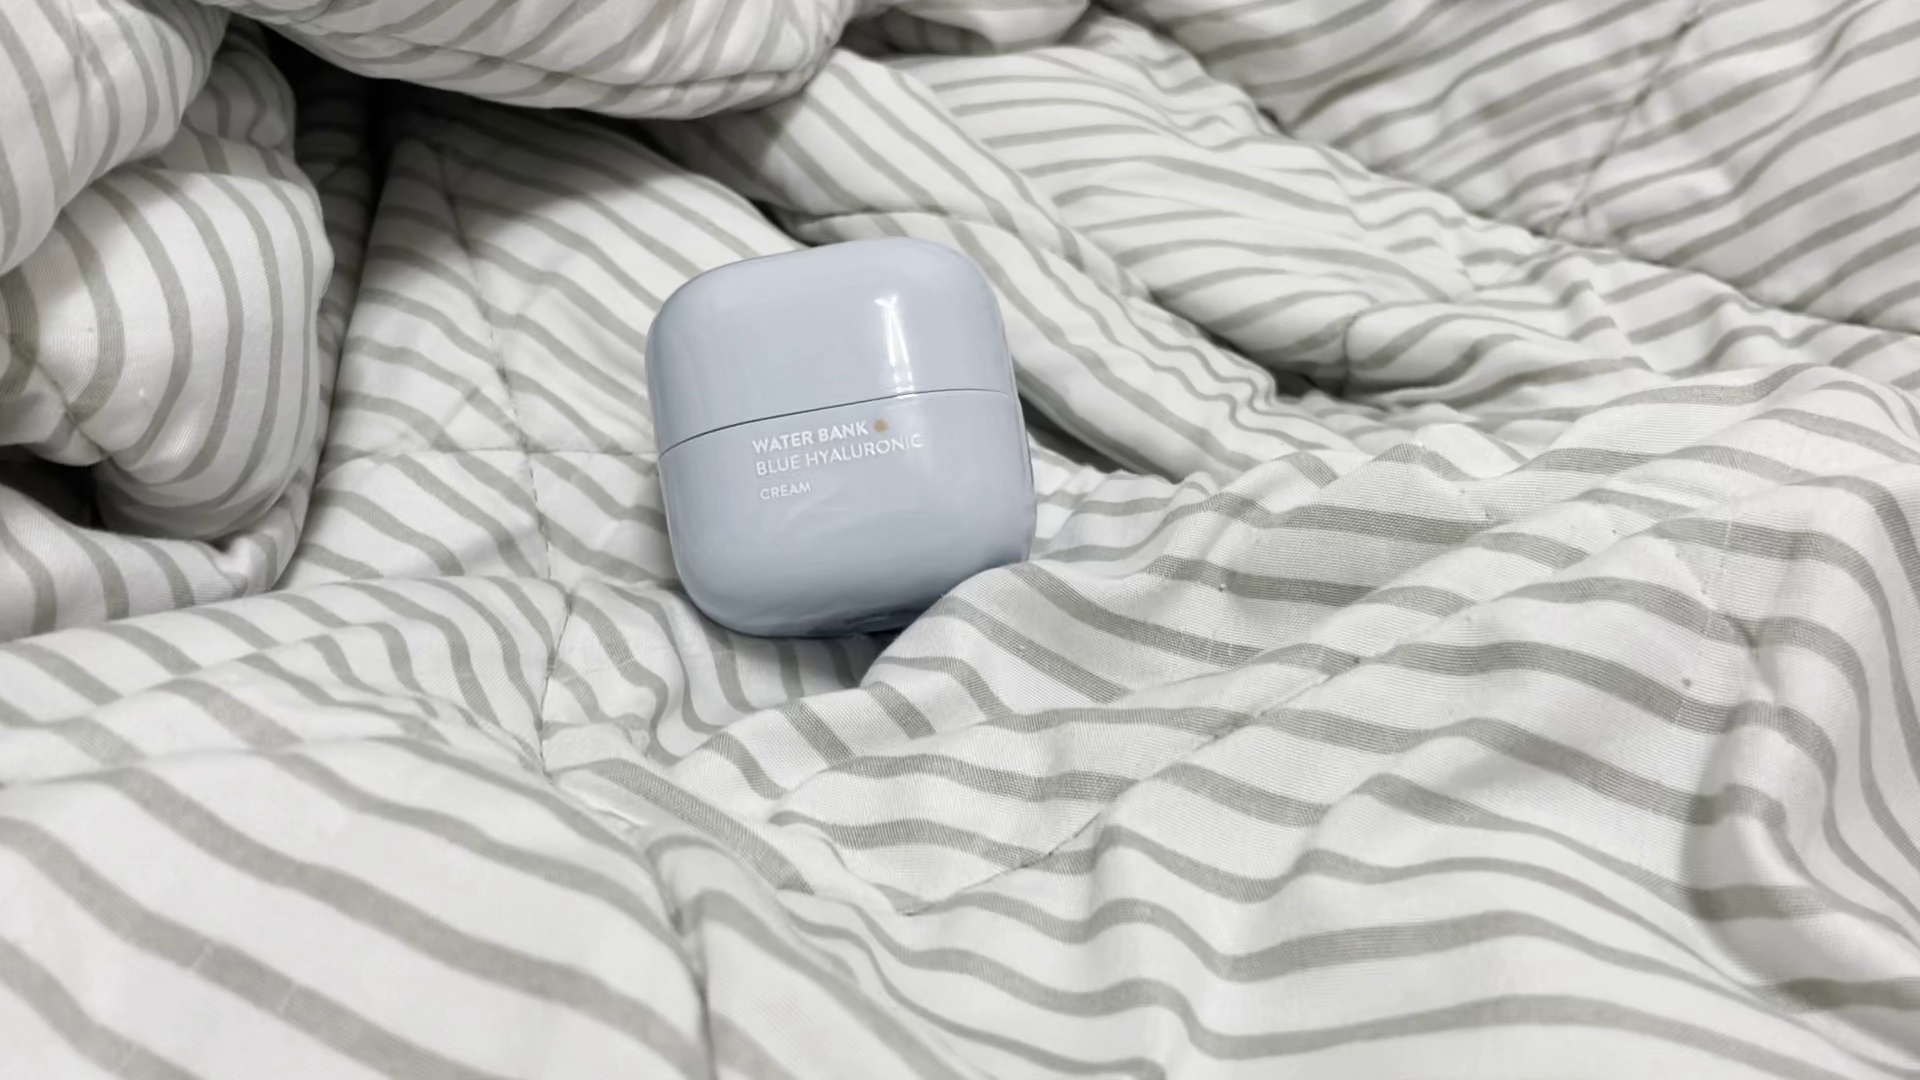cream: (640, 235, 1044, 632)
